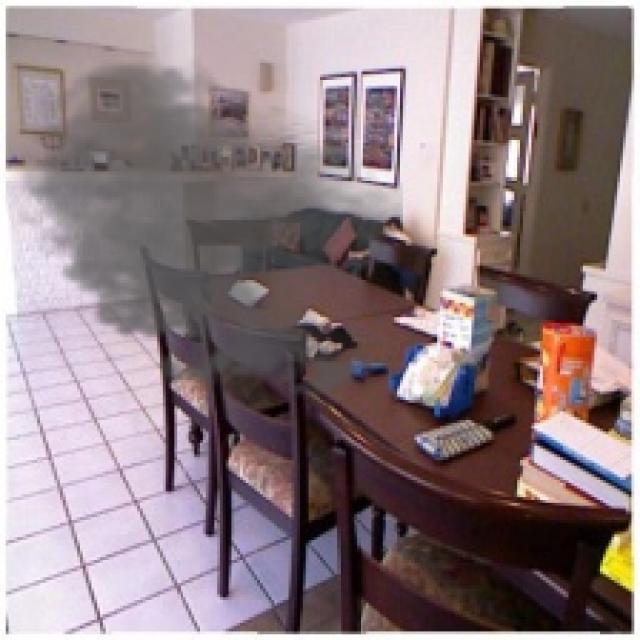Smoke: (3, 54, 403, 409)
